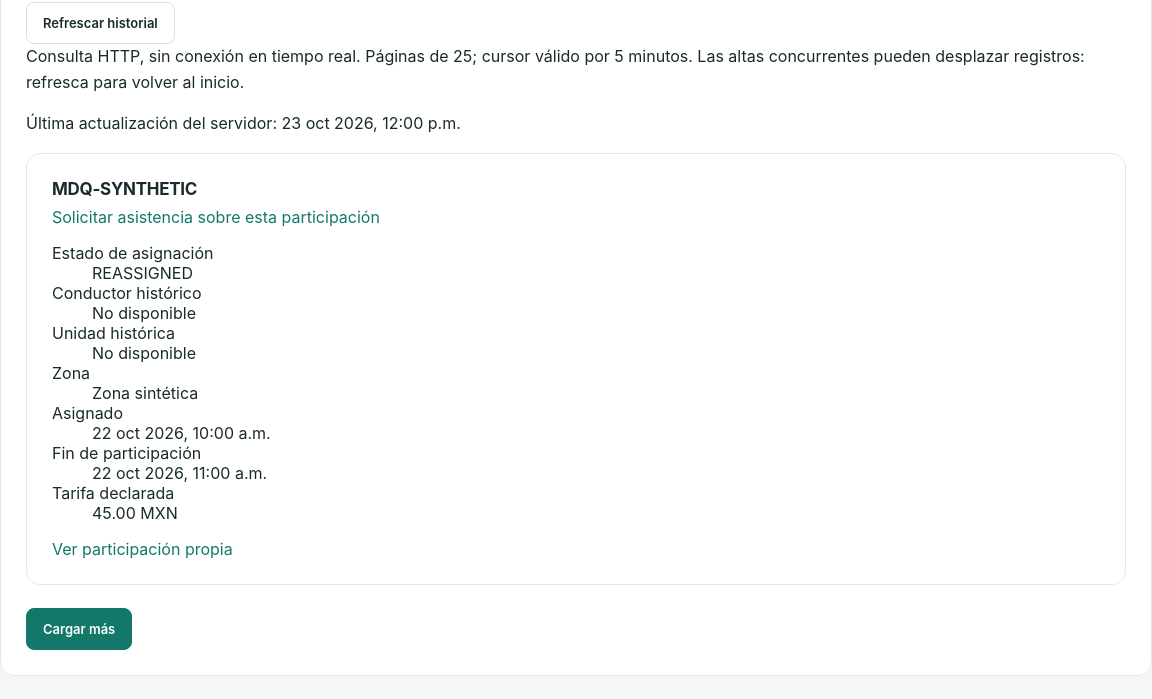
Test: page failure 400 hides earlier rows; refresh starts without a cursor
(page scrolled)
Expected: the heading "MDQ-SYNTHETIC" is shown, left=52, top=179, right=197, bottom=199
Step 1. Click the button "Cargar más" → (79, 629), box left=26, top=608, right=132, bottom=650
(page scrolled)
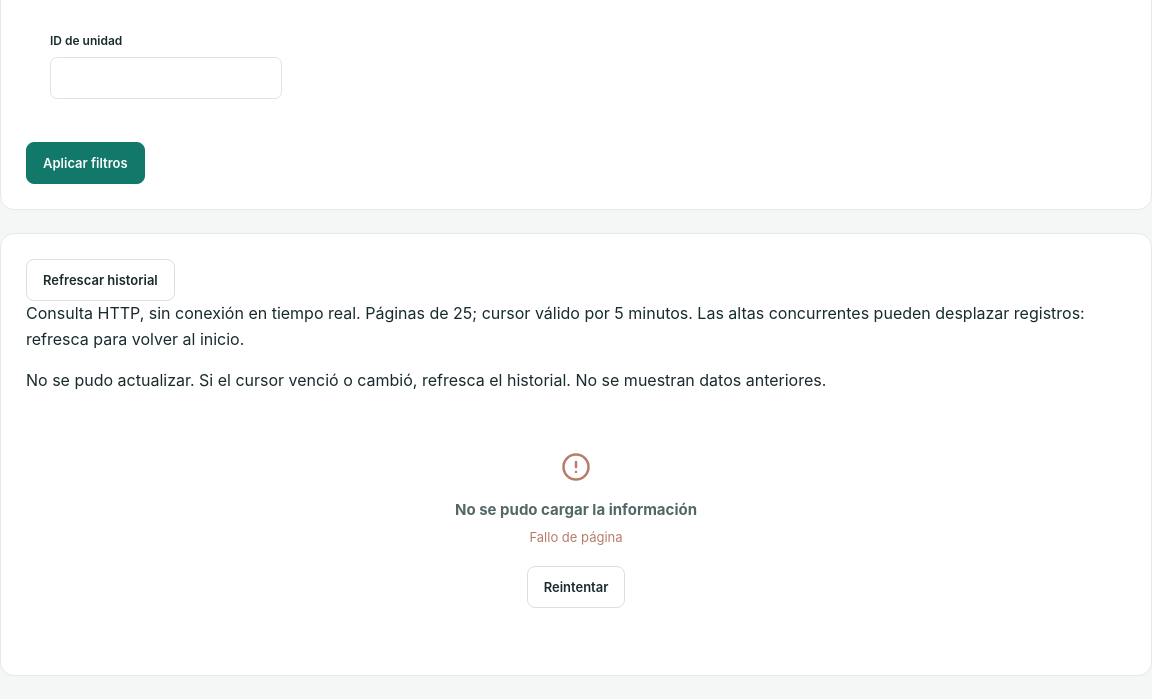
Expected: the text "Fallo de página" is shown, left=530, top=527, right=623, bottom=548
Expected: the heading "MDQ-SYNTHETIC" is gone
Step 2. Click the button "Refrescar historial" → (100, 280), box left=26, top=259, right=175, bottom=301
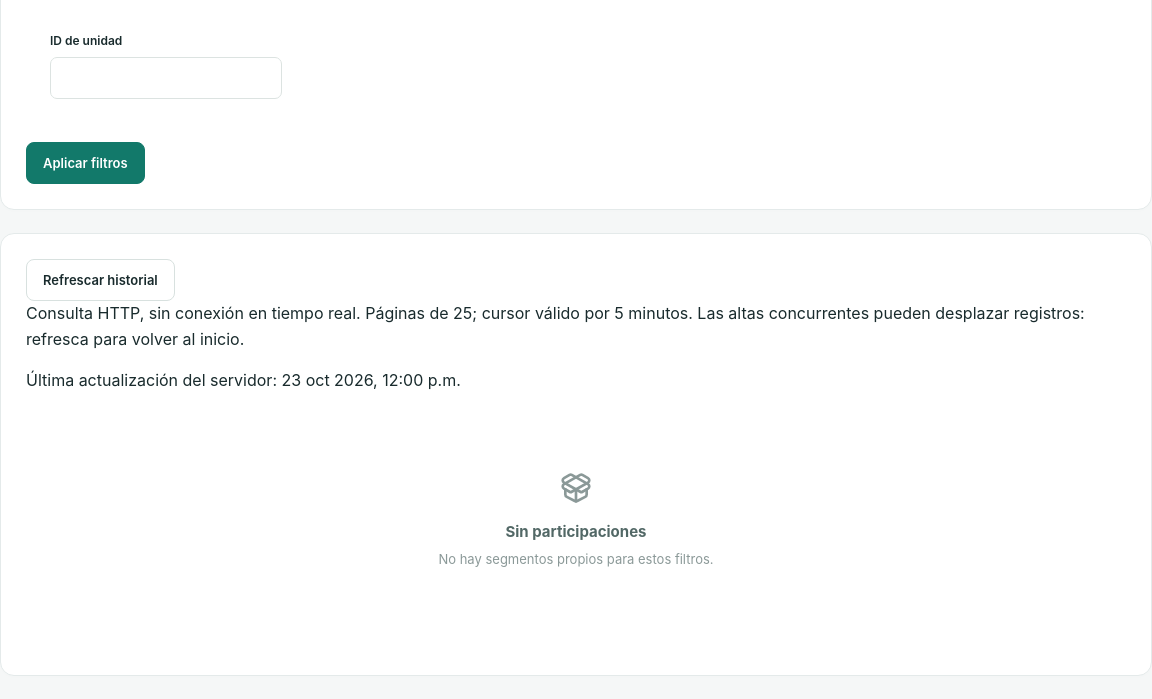
Expected: the heading "Sin participaciones" is shown, left=506, top=522, right=646, bottom=541
